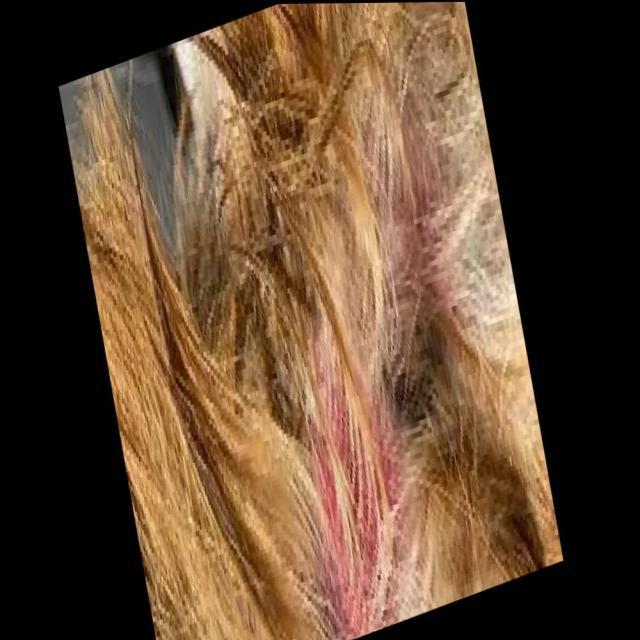allergic dermatitis: (274, 312, 404, 640)
